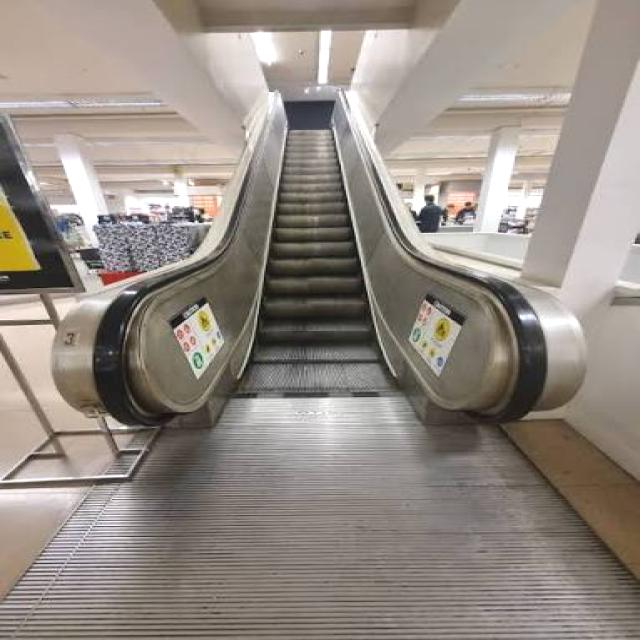escalator: (0, 78, 638, 639)
